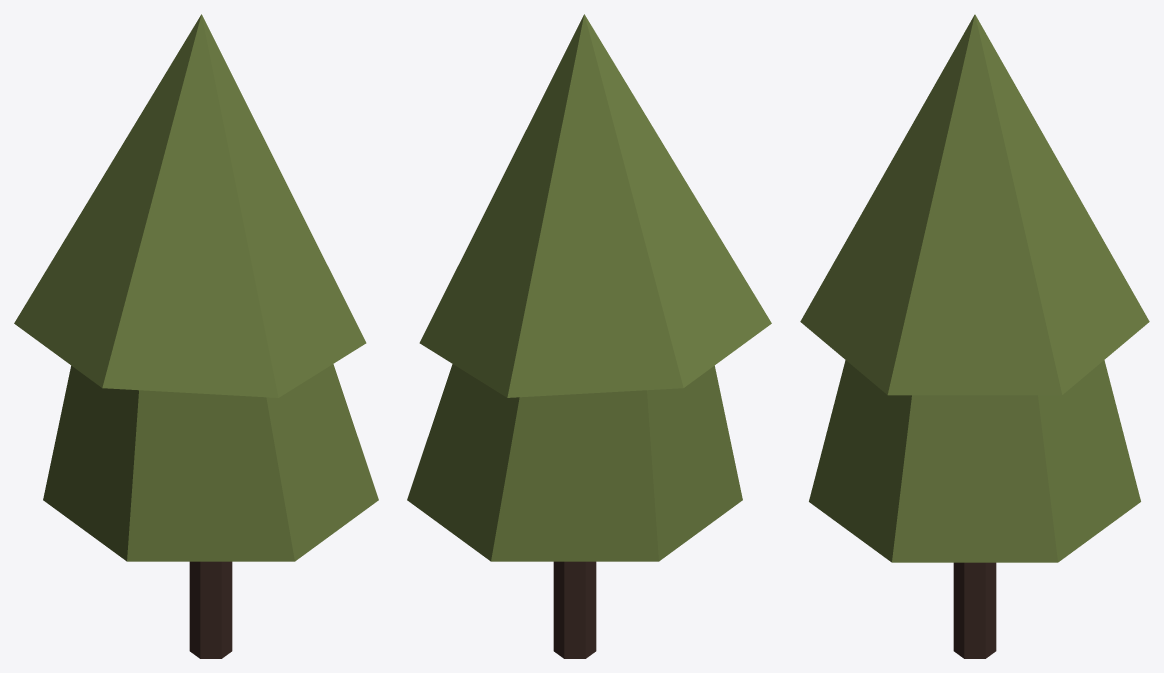
File: Tree Type1 01.glb
3 renders of one model, left to right at view 1: azimuth 30°, elevation 25°; view 2: azimuth 150°, elevation 25°; view 3: azimuth 270°, elevation 25°, orthographic.
Visible parts, largest first — view 1: Tree_Type1_01_mesh; view 2: Tree_Type1_01_mesh; view 3: Tree_Type1_01_mesh.
Boxes of the visible parts, bbox=[...] form: Tree_Type1_01_mesh: bbox=[14, 14, 378, 658]; Tree_Type1_01_mesh: bbox=[407, 14, 771, 658]; Tree_Type1_01_mesh: bbox=[800, 14, 1149, 658].
Size of the model in its own units: 0.612 by 1.34 by 0.6714.
1 material, 1 textured.
